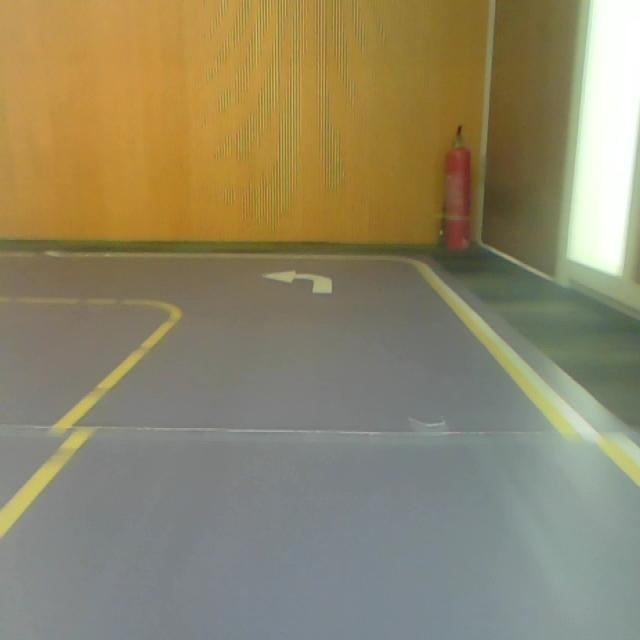left_lane: (0, 316, 185, 540)
right_lane: (414, 266, 640, 489)
